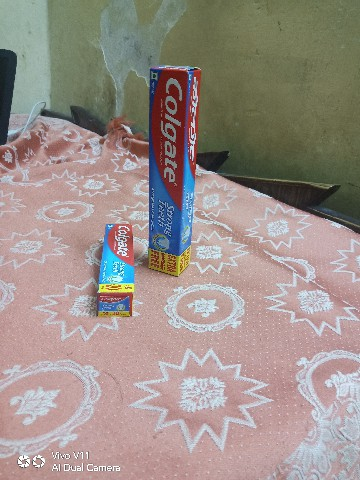colgatetoothpaste big: (141, 47, 205, 281)
colgatetoothpaste small: (92, 210, 143, 320)
